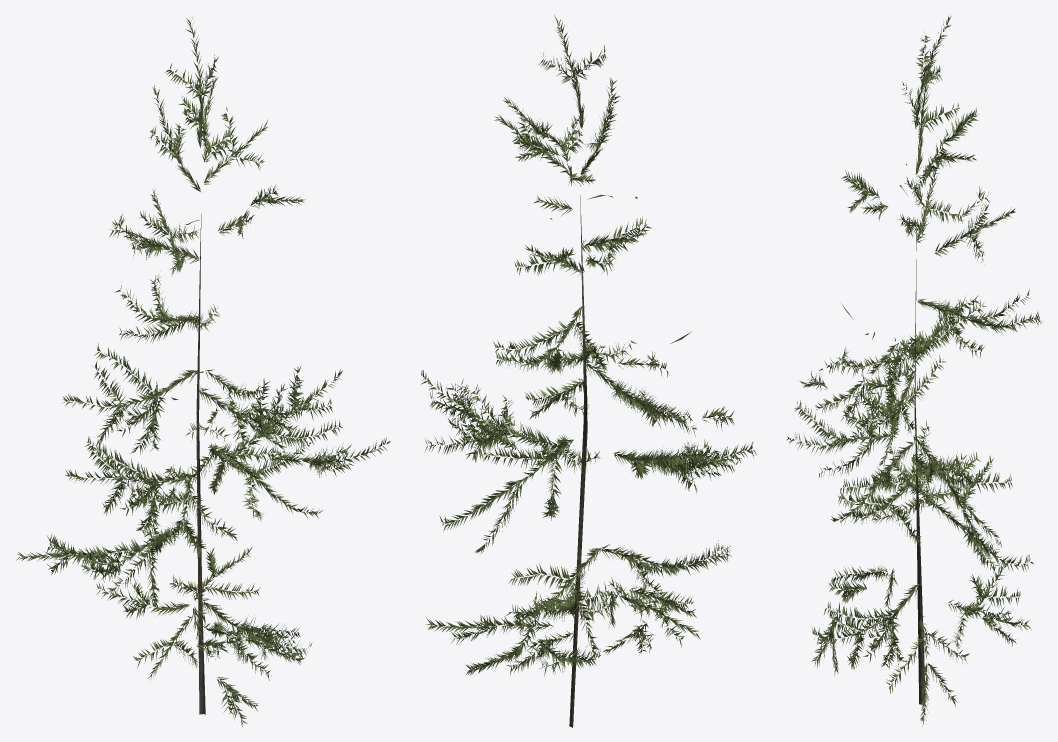
Rendered from yard-fir.glb.
3 renders of one model, left to right at view 1: azimuth 30°, elevation 25°; view 2: azimuth 150°, elevation 25°; view 3: azimuth 270°, elevation 25°, orthographic. The views are drawn at different scales.
Visible parts, largest first — view 1: yard-fir; view 2: yard-fir; view 3: yard-fir.
Boxes of the visible parts, left/top/right/bottom form: yard-fir: left=16, top=18, right=390, bottom=726; yard-fir: left=421, top=15, right=756, bottom=727; yard-fir: left=786, top=16, right=1042, bottom=726.
Bounding box in the file's own units: 2.06 × 4.39 × 1.48.
2 materials, 2 textured.
